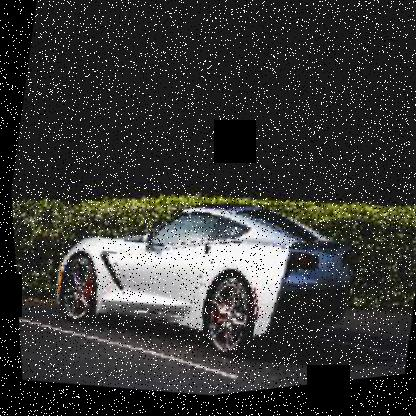not_emergency: (28, 152, 381, 382)
